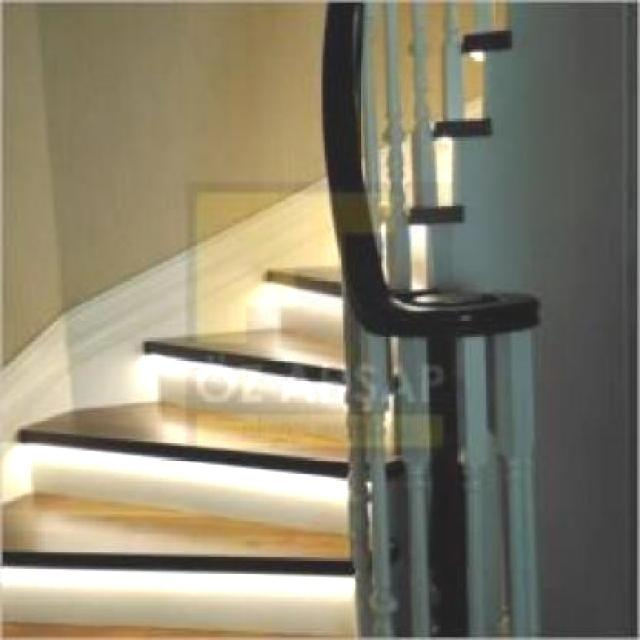stair: (1, 38, 542, 636)
